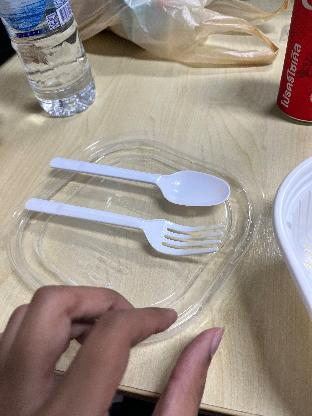Others: (24, 191, 228, 267), (36, 152, 239, 209)
Plastic Bottle: (2, 0, 94, 116)
